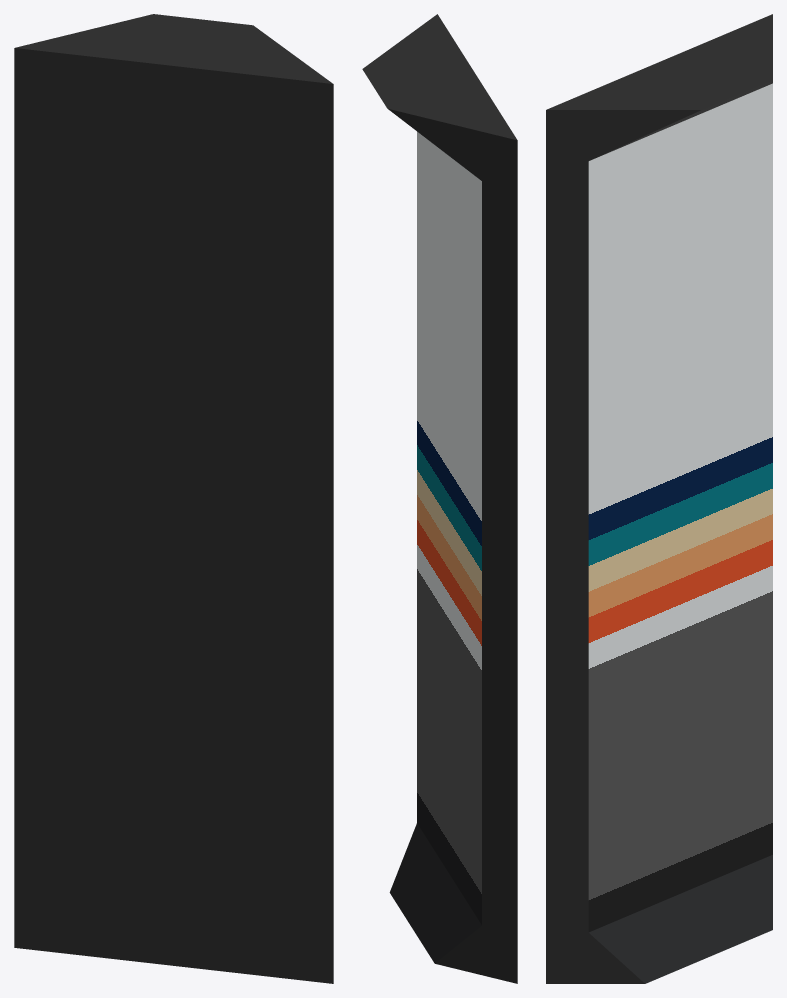
Rendered from CalShipWallCornerIn2.gltf.
The picture shows the model from 3 angles, left to right: view 1: azimuth 30°, elevation 25°; view 2: azimuth 150°, elevation 25°; view 3: azimuth 270°, elevation 25°; orthographic projection. The views are drawn at different scales.
Parts seen in each view (by area): view 1: mesh; view 2: mesh; view 3: mesh.
Part boxes in pixels (left/top/right/bottom): mesh: left=14, top=14, right=333, bottom=983; mesh: left=362, top=14, right=517, bottom=983; mesh: left=546, top=14, right=772, bottom=983.
Size of the model in its own units: 0.5 by 2.12 by 0.5.
1 material, 1 textured.
